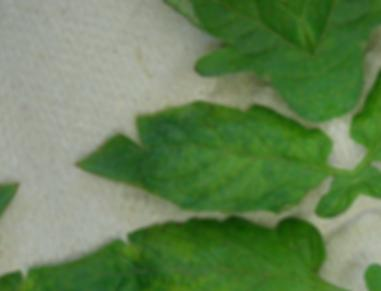Tomato leaf mosaic virus: (69, 71, 339, 265), (112, 0, 334, 168), (71, 167, 352, 291)
